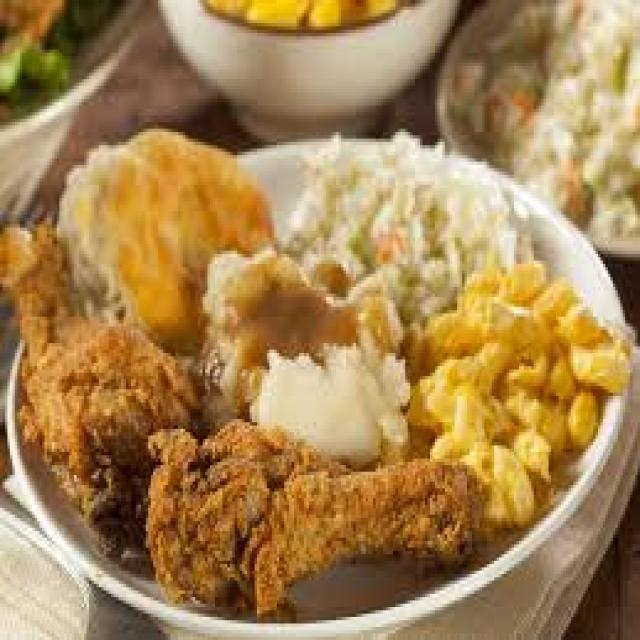Organik: (138, 392, 457, 585), (408, 242, 625, 524), (68, 121, 328, 345), (0, 230, 178, 535), (277, 128, 529, 328), (187, 240, 412, 461), (473, 1, 640, 222)
